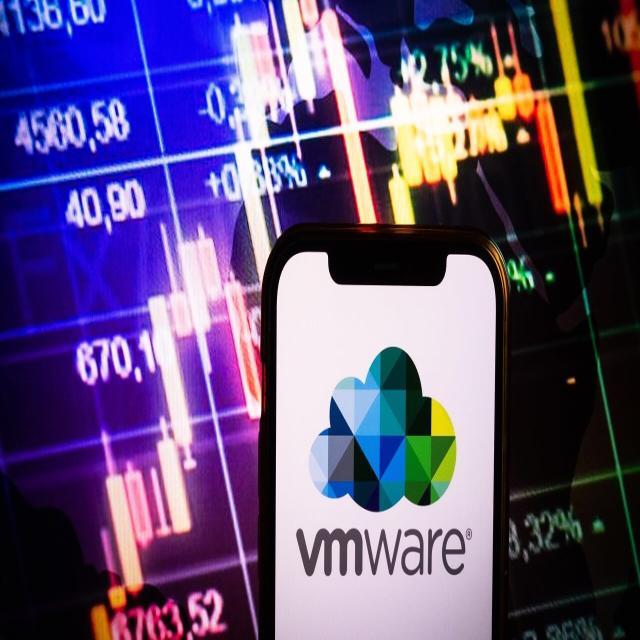vmware: (295, 527, 363, 577)
